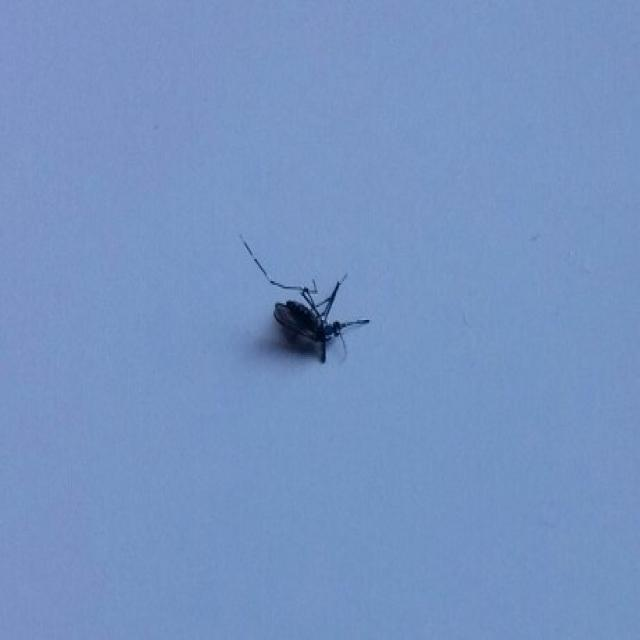albopictus: (236, 224, 373, 364)
